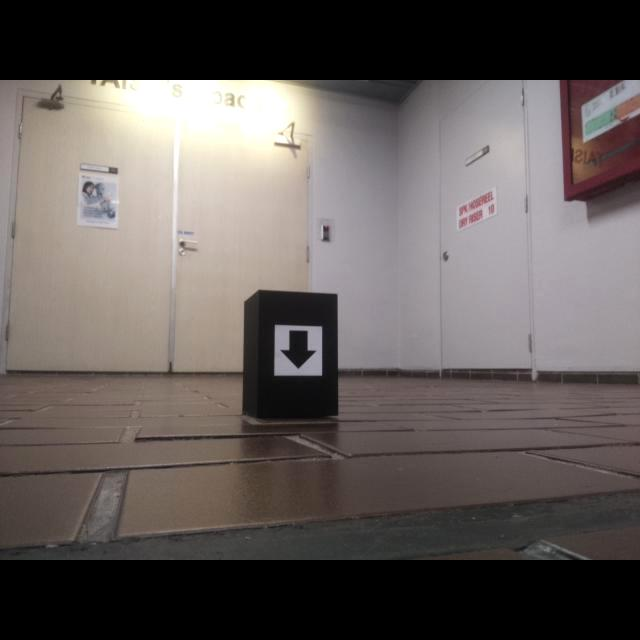DOWN: (278, 330, 317, 370)
